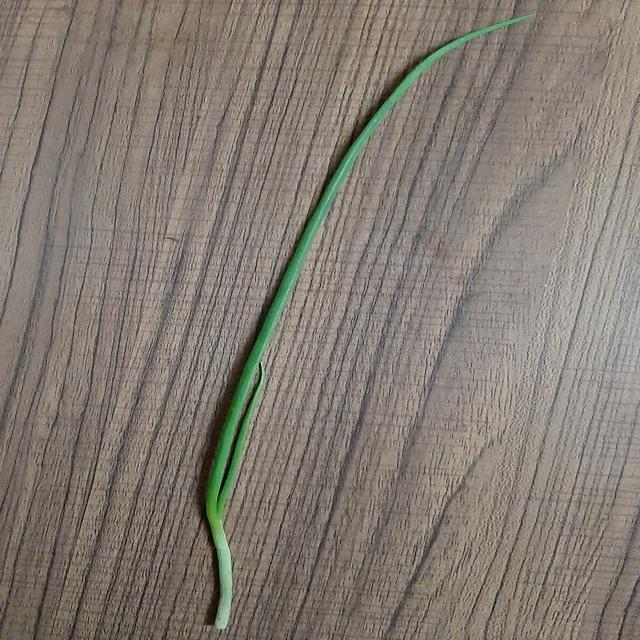onion: (206, 48, 447, 629)
